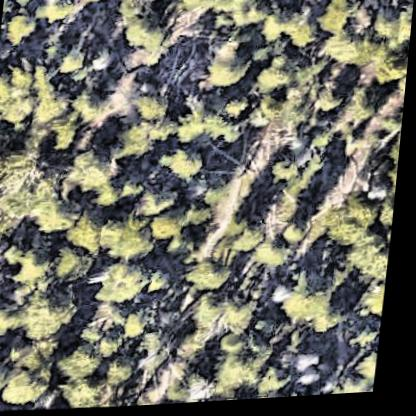tree-top: (21, 287, 86, 346), (325, 192, 389, 250), (104, 208, 163, 266), (119, 9, 176, 67), (101, 255, 160, 311), (286, 278, 343, 333), (0, 67, 45, 132), (68, 148, 123, 201), (219, 349, 274, 401), (325, 32, 385, 78), (7, 361, 61, 412), (171, 105, 224, 152), (36, 188, 85, 238), (118, 118, 166, 165), (254, 57, 303, 102), (164, 142, 214, 186), (279, 8, 325, 55), (65, 340, 112, 385), (55, 242, 103, 286), (68, 208, 112, 255), (343, 85, 388, 130), (238, 232, 288, 271), (17, 243, 61, 287), (132, 83, 177, 125), (191, 259, 237, 299), (205, 55, 252, 94), (318, 0, 360, 40), (150, 209, 192, 248), (144, 184, 187, 222), (1, 11, 41, 51), (180, 328, 220, 368), (222, 295, 262, 335), (76, 77, 111, 121), (373, 50, 411, 90), (0, 298, 36, 340), (199, 291, 237, 330), (236, 220, 273, 259), (71, 375, 112, 410), (262, 366, 301, 402), (49, 112, 84, 152), (109, 353, 145, 390), (373, 10, 409, 47), (259, 240, 298, 273), (365, 282, 392, 329), (128, 307, 163, 342), (360, 244, 394, 278), (51, 49, 86, 82), (360, 353, 385, 394), (119, 174, 153, 204), (186, 200, 218, 231), (272, 156, 305, 186), (192, 376, 225, 406), (218, 0, 259, 24), (338, 377, 382, 399), (176, 0, 222, 21), (39, 88, 72, 116), (36, 0, 81, 20), (318, 92, 347, 123), (300, 351, 331, 380), (259, 97, 291, 124), (357, 329, 387, 357), (259, 15, 286, 46), (380, 198, 400, 239), (149, 269, 178, 296), (0, 357, 20, 396), (87, 49, 115, 76), (289, 221, 315, 249), (226, 95, 254, 121), (225, 337, 253, 363), (300, 369, 329, 394), (218, 119, 243, 145), (0, 136, 12, 190), (310, 129, 337, 152), (205, 183, 227, 208), (349, 132, 370, 155), (8, 0, 43, 11), (0, 389, 10, 413), (341, 0, 386, 4), (266, 0, 301, 3)
